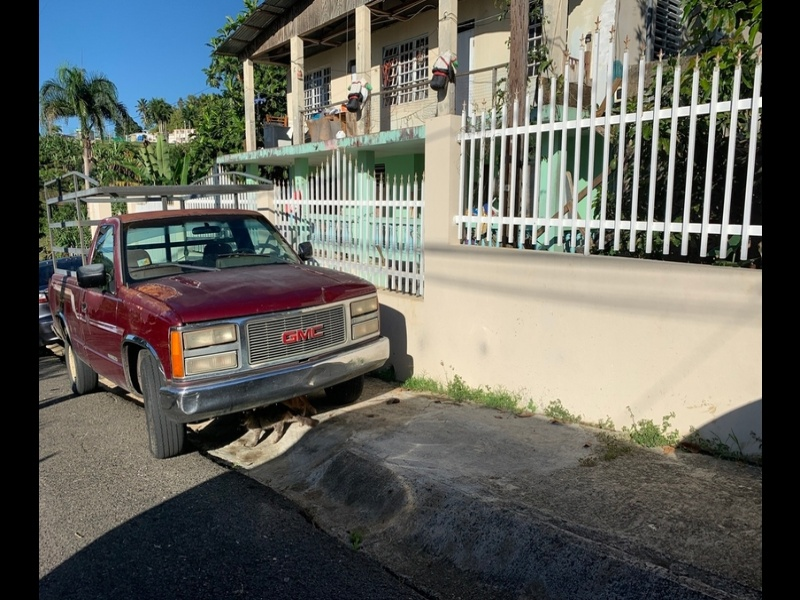cat: (232, 408, 317, 439)
